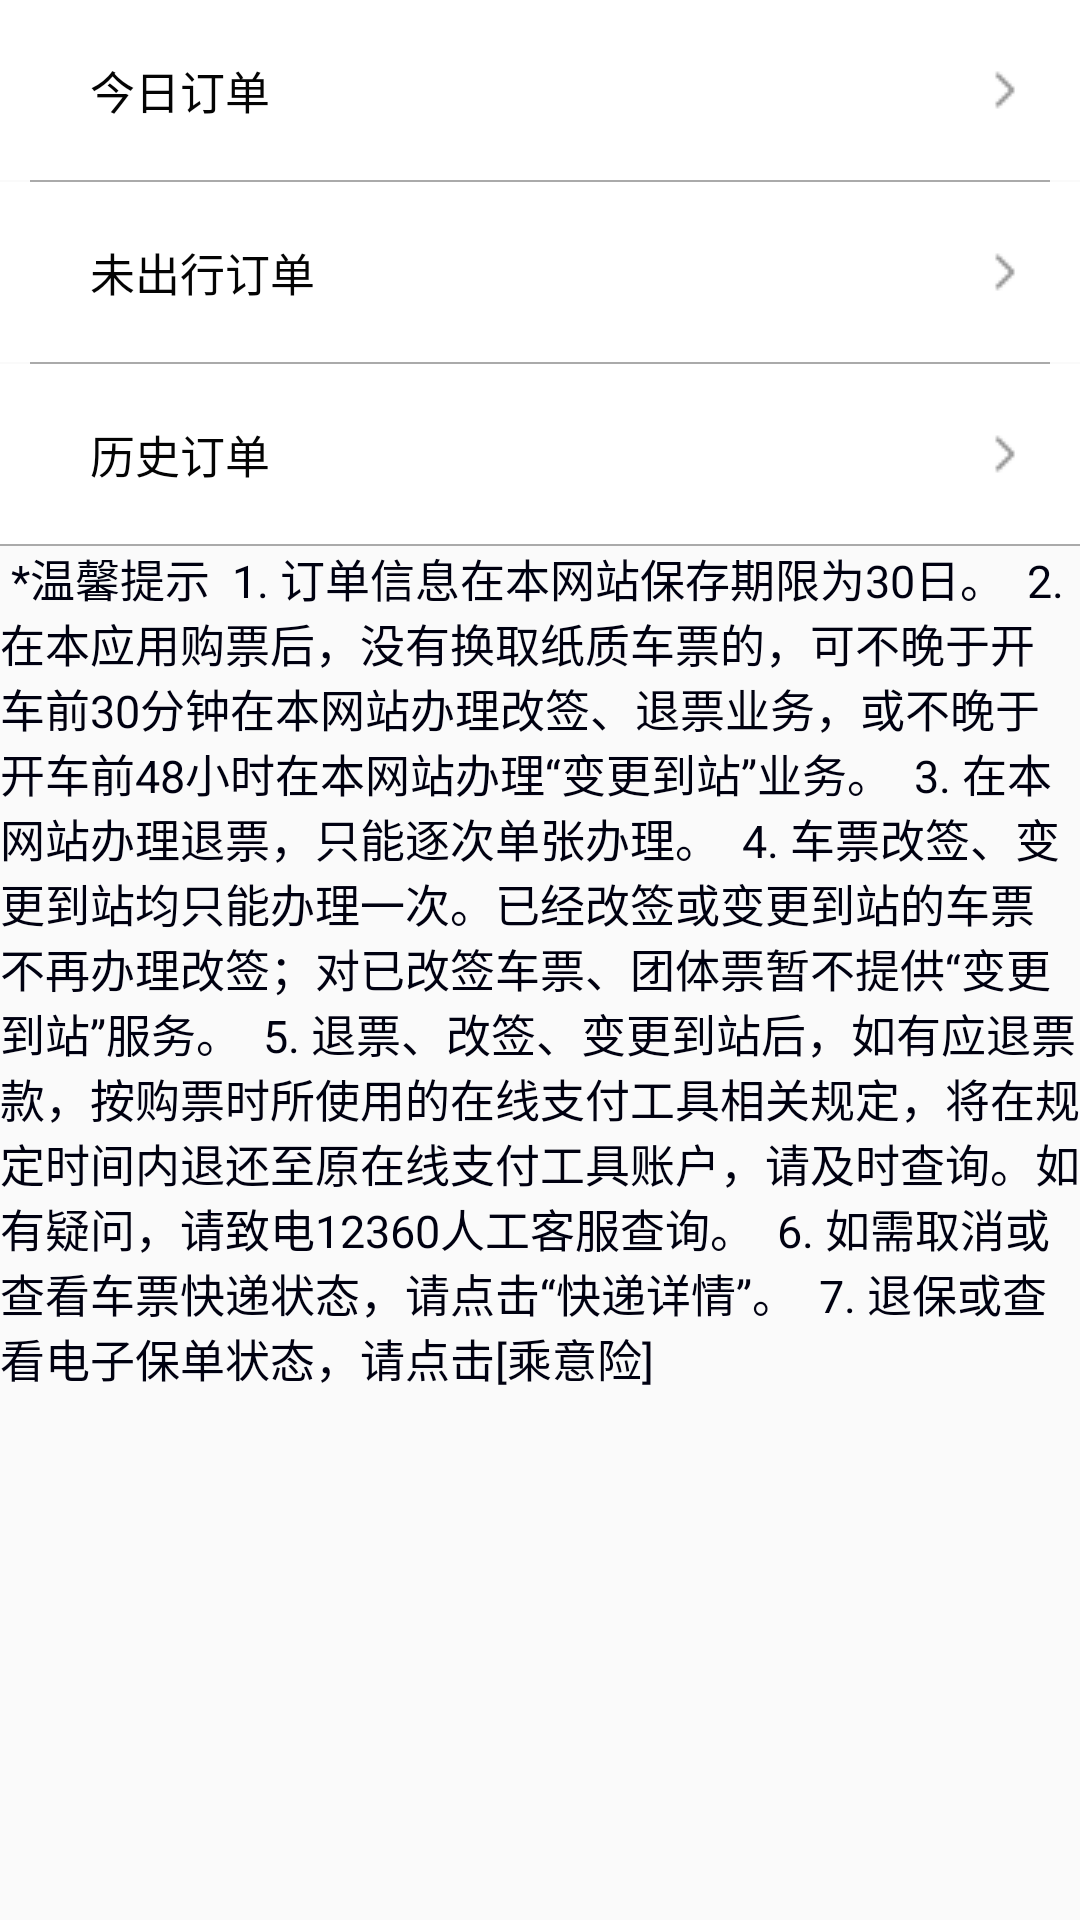

Screen size 1080*1920. Icon name, then its center in pixels as [x,y]:
right: [1005,90], [1005,272], [1005,454]
